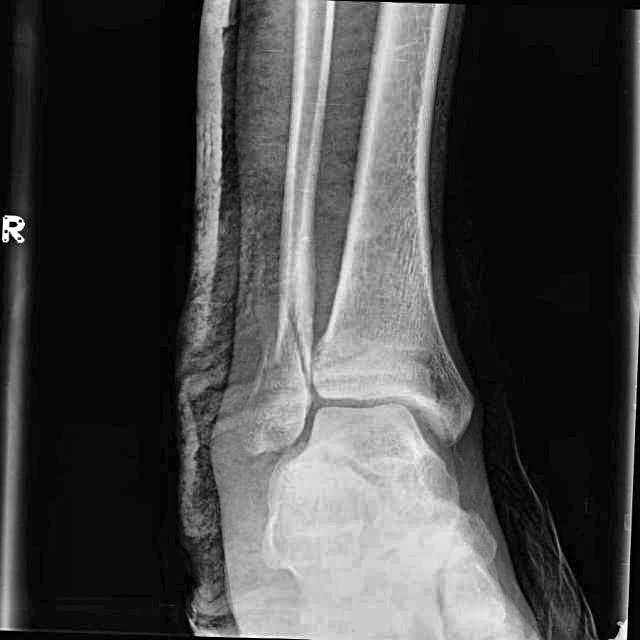Oblique Displaced: (258, 284, 327, 421)
